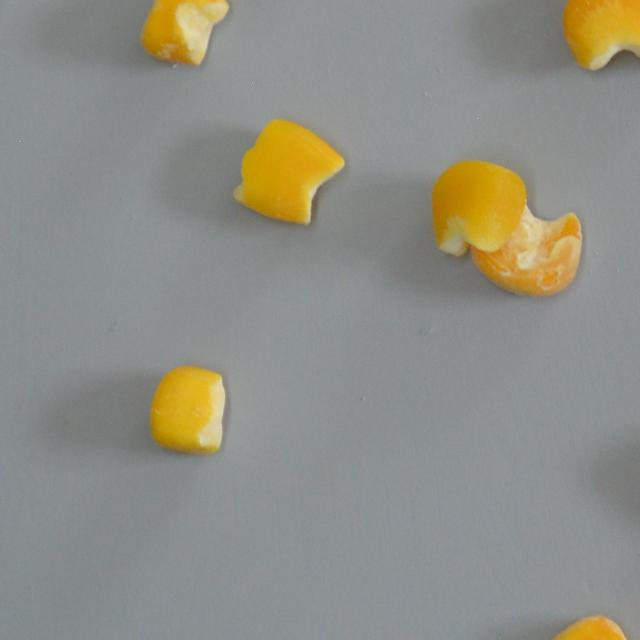estandar: (146, 364, 228, 456)
no_canjicado: (230, 114, 345, 226), (429, 154, 527, 257), (558, 0, 640, 72), (540, 611, 640, 640)
no_desgerminado: (138, 0, 230, 69)
pelicula: (468, 200, 582, 297)
